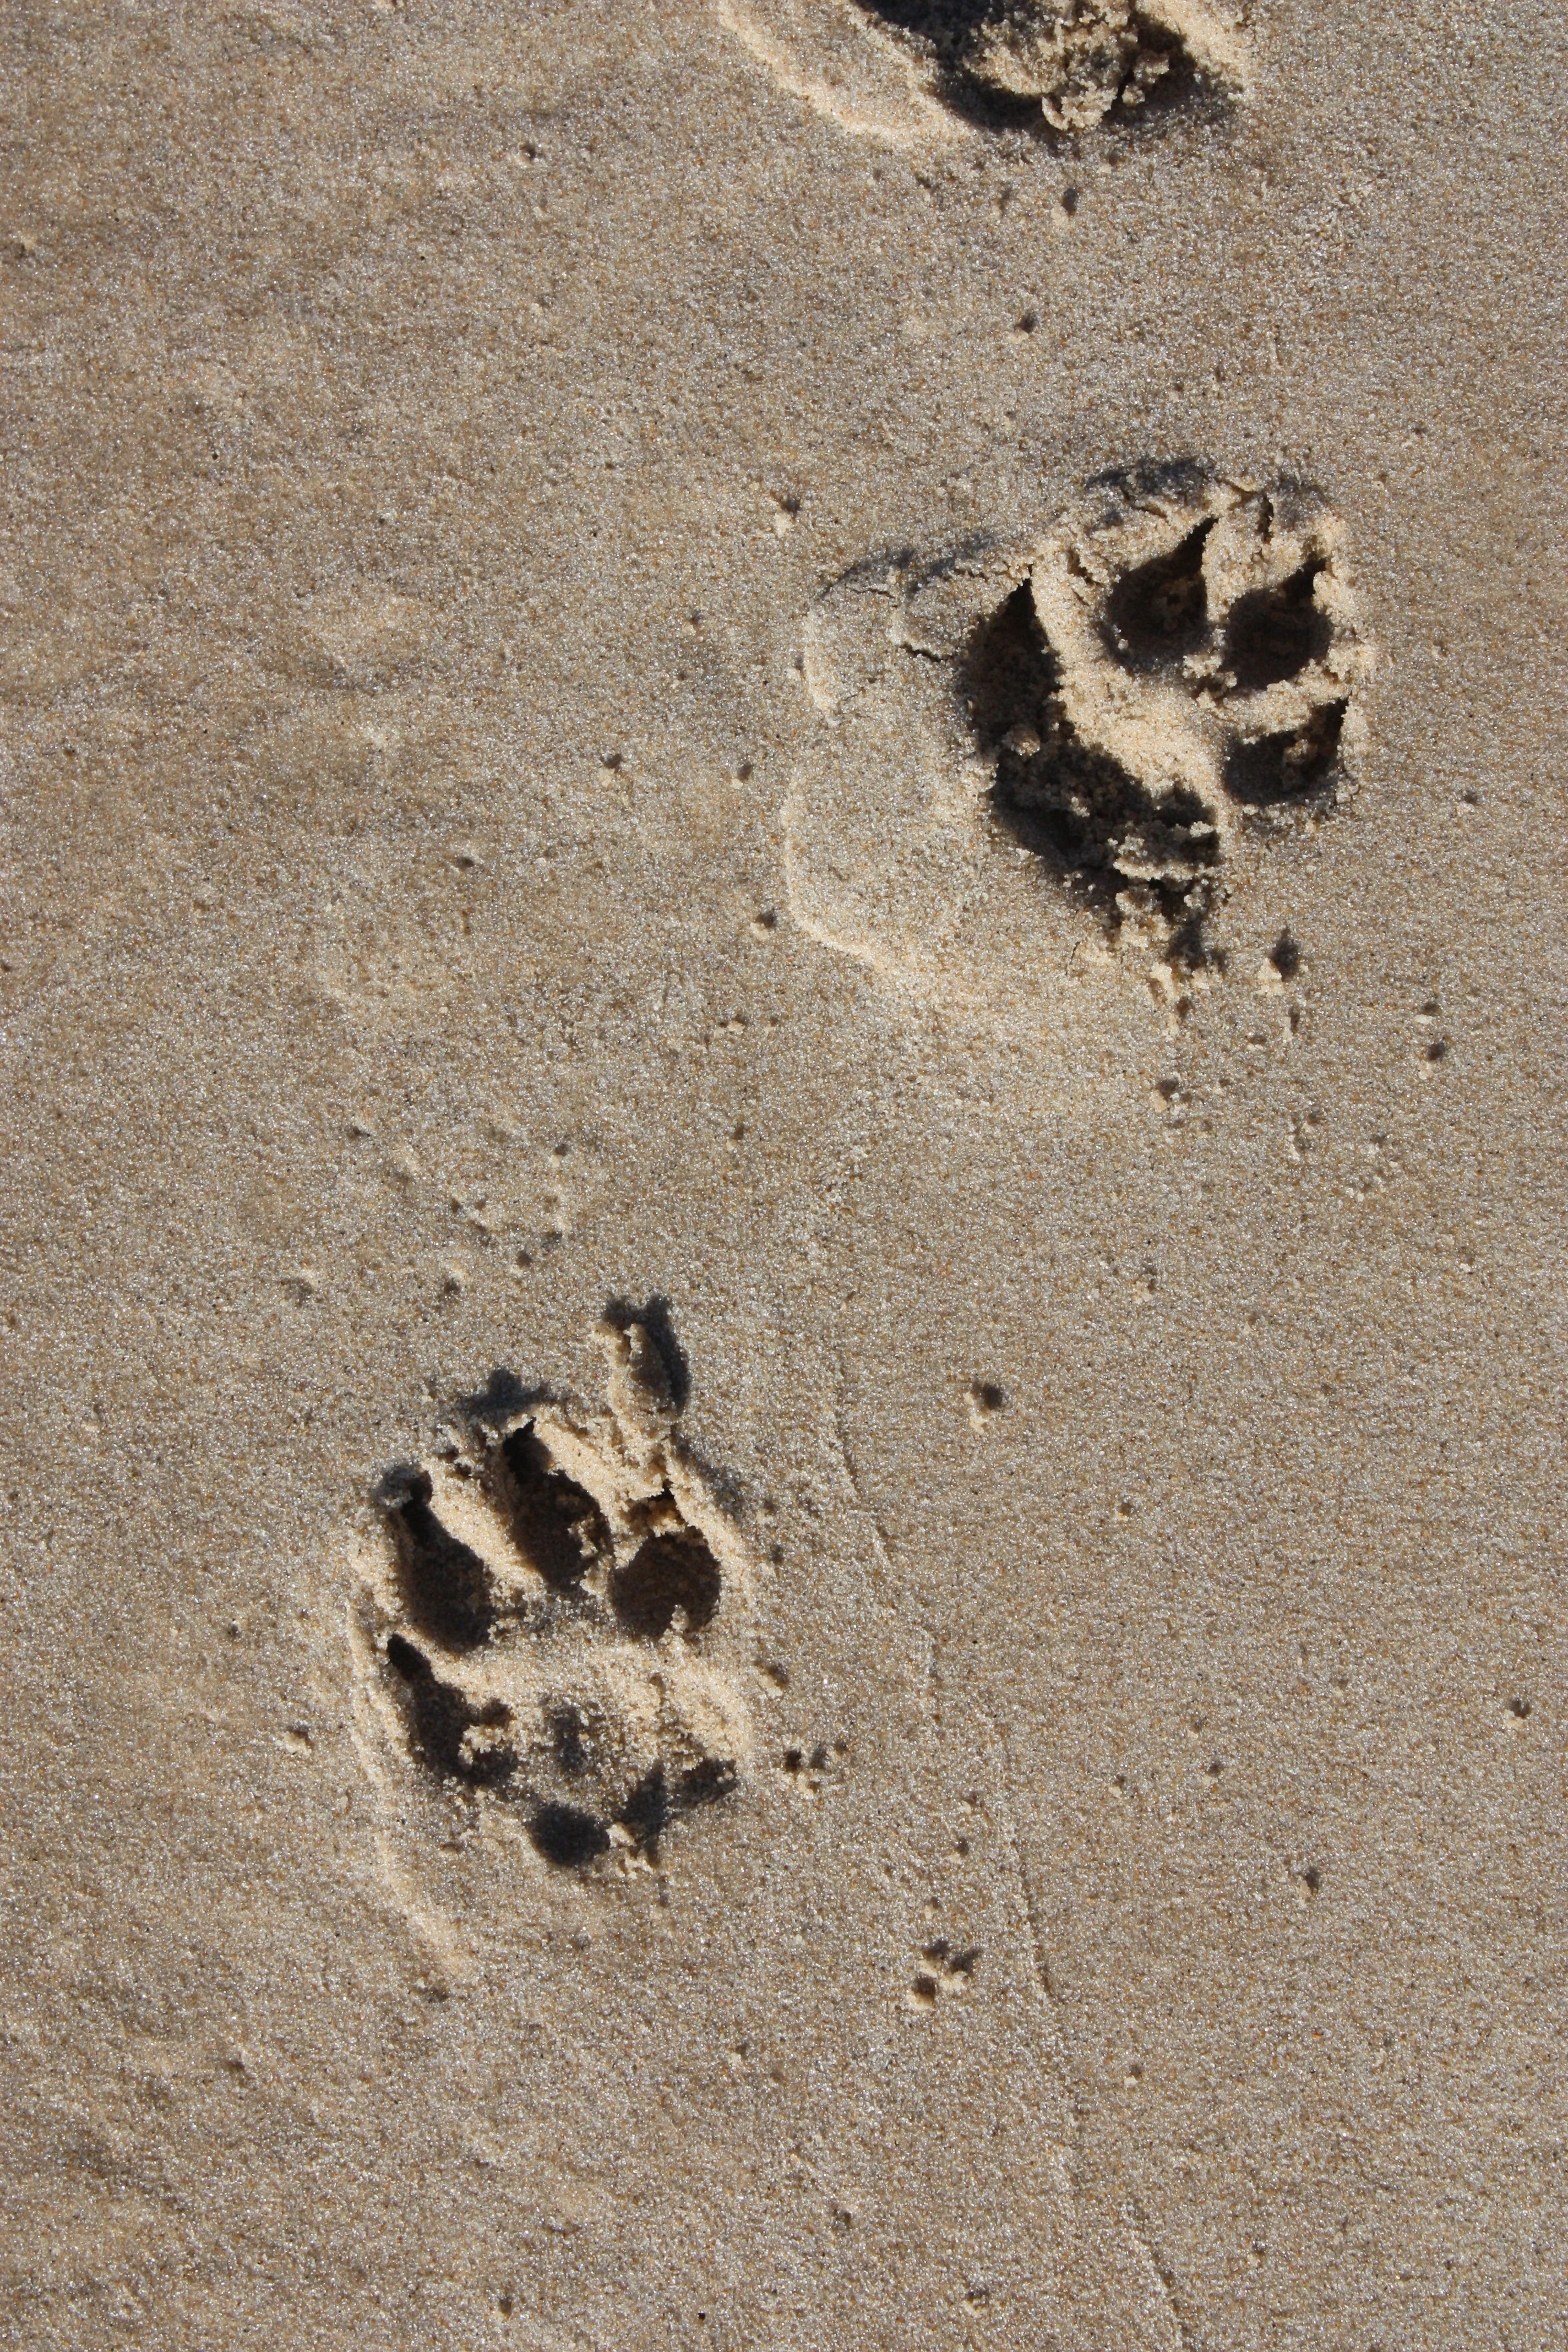castor: (975, 458, 1374, 920)
chien: (357, 1438, 772, 1865)
